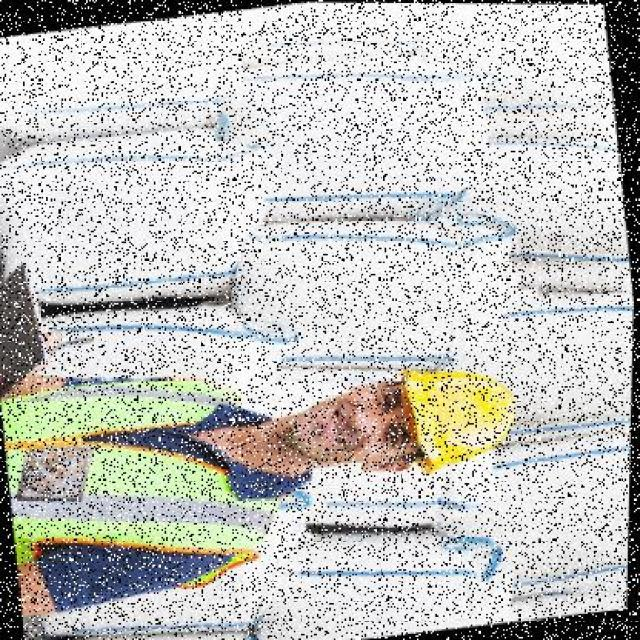helmet: (394, 349, 528, 476)
vest: (0, 360, 294, 620)
